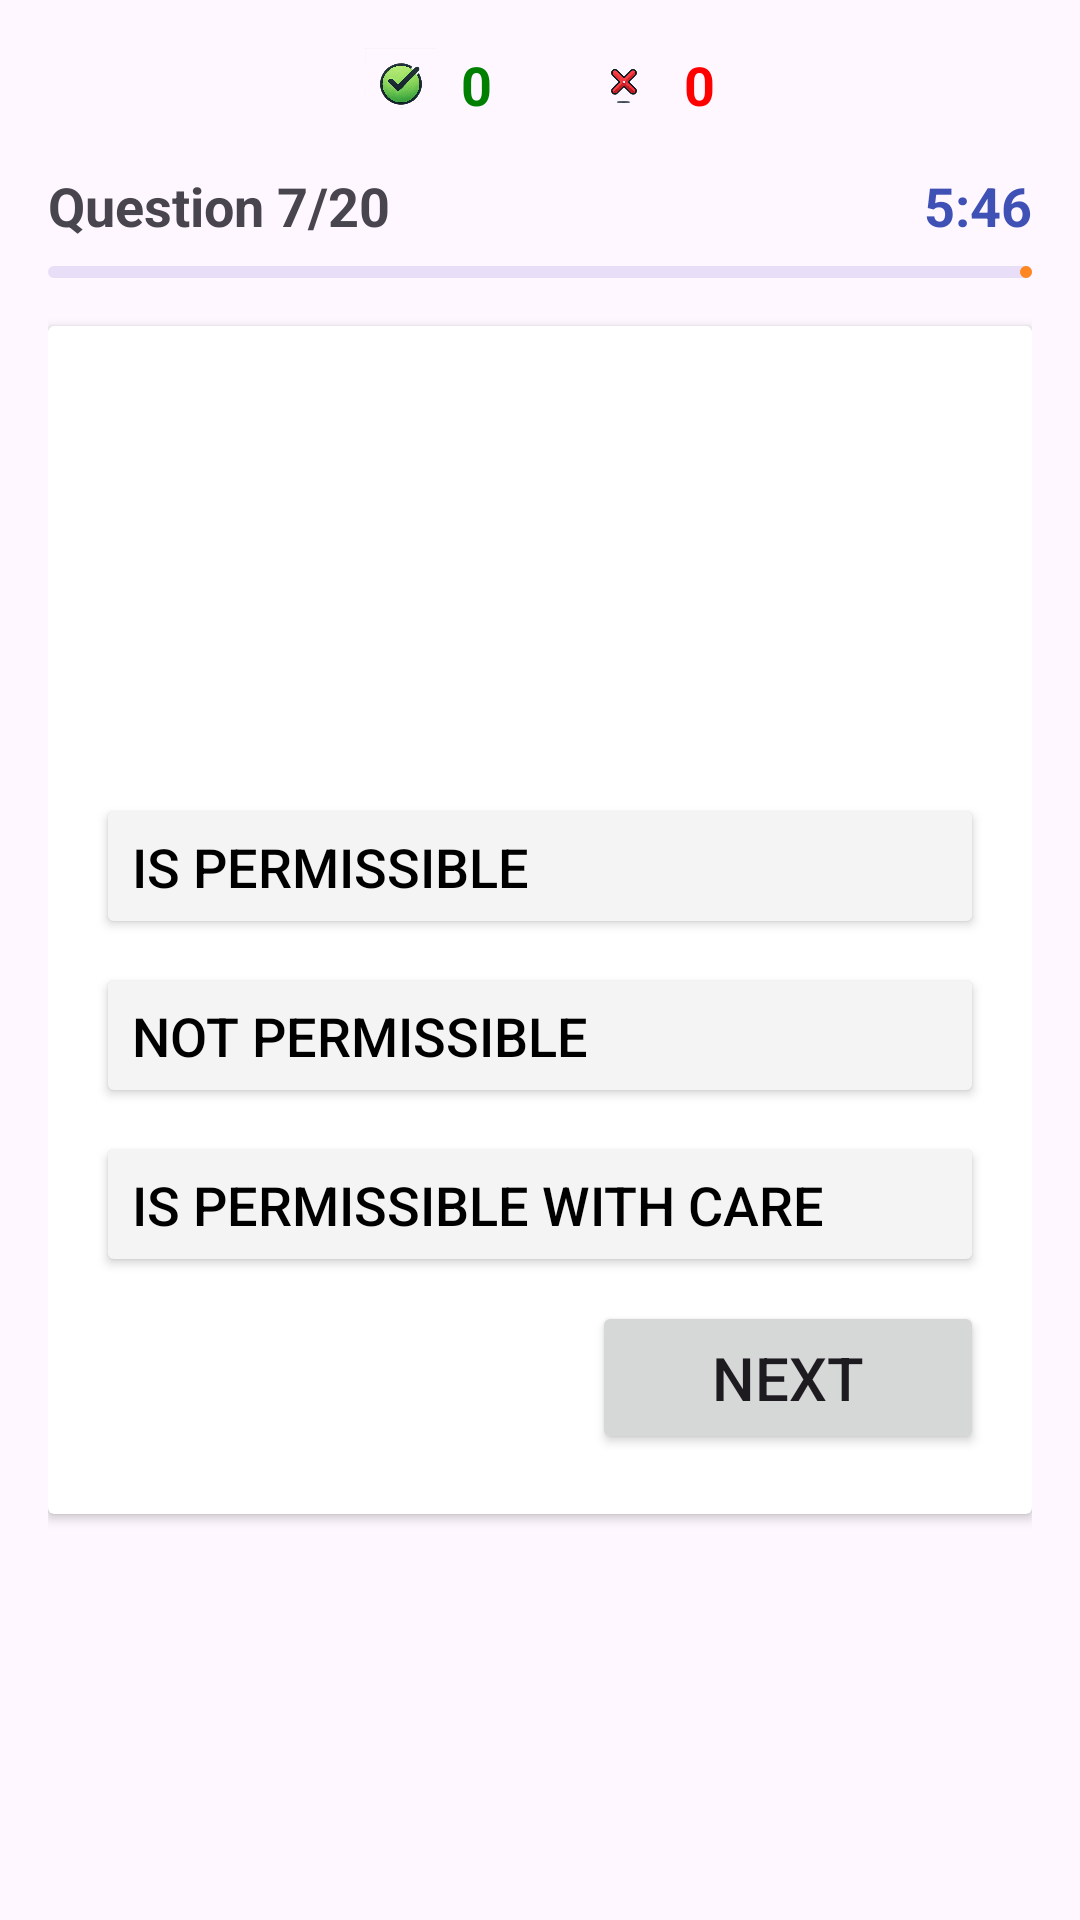

Screen size 1080 × 1920. Icon name, then its center in pixels as point (x, y):
correct tick: point (401, 84)
wrong tick: point (624, 86)
